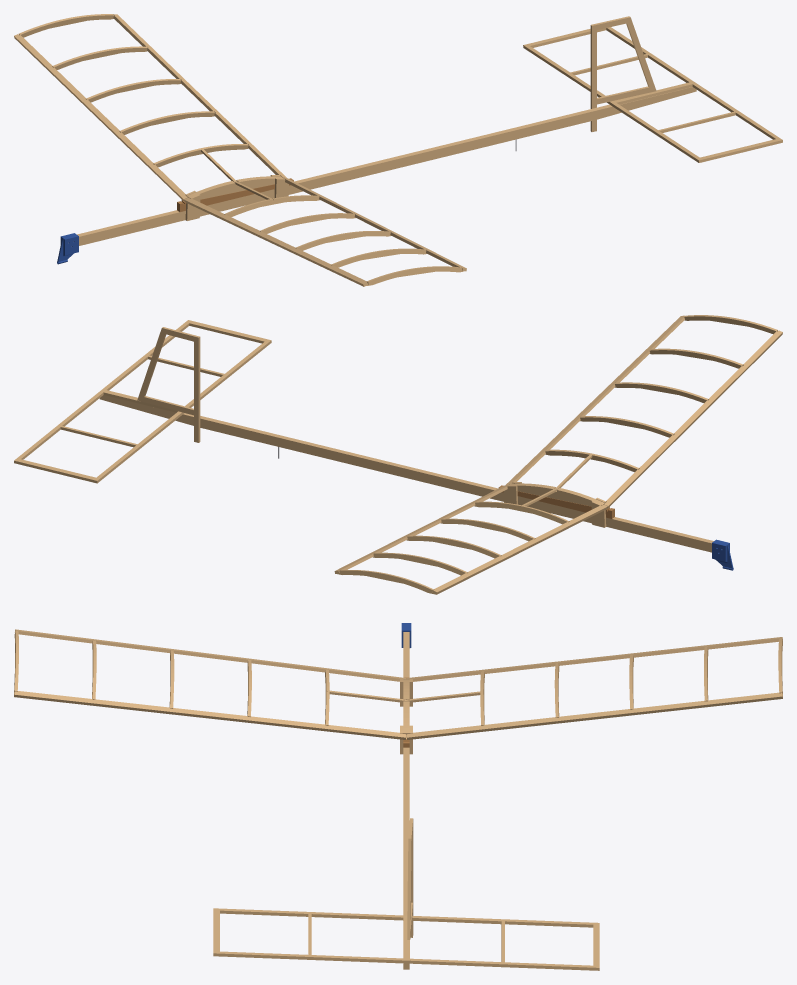
The model's file is iltatahti_p18.glb.
The picture shows the model from 3 angles, top to bottom: view 1: azimuth 30°, elevation 25°; view 2: azimuth 150°, elevation 25°; view 3: azimuth 270°, elevation 25°; orthographic projection. The views are drawn at different scales.
Visible parts, largest first — view 1: wing, motor_stick, stab, wing_R_le_spar, wing_R_te_spar, wing_L_le_spar, wing_L_te_spar, fin_le, wing_wedge, fin_te, pukki; view 2: wing, motor_stick, stab, wing_L_le_spar, wing_L_te_spar, wing_R_le_spar, wing_R_te_spar, fin_le, wing_wedge, fin_te; view 3: stab, wing, wing_L_te_spar, wing_R_te_spar, wing_L_le_spar, wing_R_le_spar, motor_stick.
Boxes of the visible parts, x1=… form: wing: x1=19, y1=14, x2=463, y2=285; motor_stick: x1=77, y1=87, x2=696, y2=245; stab: x1=523, y1=27, x2=782, y2=162; wing_R_le_spar: x1=14, y1=34, x2=187, y2=201; wing_R_te_spar: x1=113, y1=14, x2=286, y2=177; wing_L_le_spar: x1=184, y1=198, x2=367, y2=286; wing_L_te_spar: x1=283, y1=178, x2=466, y2=271; fin_le: x1=590, y1=24, x2=598, y2=131; wing_wedge: x1=177, y1=178, x2=293, y2=211; fin_te: x1=626, y1=18, x2=656, y2=91; pukki: x1=57, y1=233, x2=78, y2=264; wing: x1=337, y1=315, x2=777, y2=594; motor_stick: x1=99, y1=395, x2=722, y2=552; stab: x1=14, y1=320, x2=271, y2=483; wing_L_le_spar: x1=604, y1=330, x2=782, y2=508; wing_L_te_spar: x1=506, y1=315, x2=684, y2=484; wing_R_le_spar: x1=432, y1=504, x2=607, y2=594; wing_R_te_spar: x1=334, y1=485, x2=508, y2=573; fin_le: x1=193, y1=336, x2=200, y2=442; wing_wedge: x1=498, y1=485, x2=614, y2=518; fin_te: x1=137, y1=330, x2=166, y2=400; stab: x1=213, y1=908, x2=599, y2=970; wing: x1=14, y1=631, x2=782, y2=754; wing_L_te_spar: x1=14, y1=691, x2=406, y2=739; wing_R_te_spar: x1=406, y1=692, x2=782, y2=739; wing_L_le_spar: x1=15, y1=629, x2=406, y2=681; wing_R_le_spar: x1=406, y1=637, x2=782, y2=681; motor_stick: x1=403, y1=632, x2=409, y2=969.
Bounding box in the file's own units: 0.502 × 0.0801 × 0.4772.
